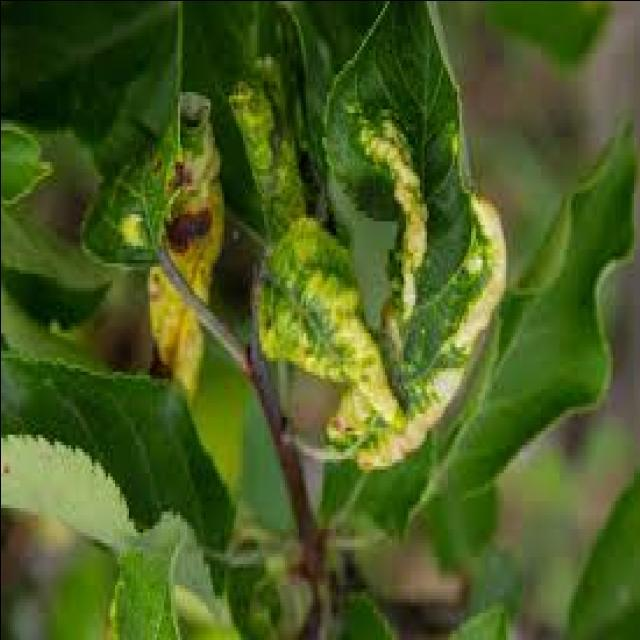aphid: (118, 207, 144, 230)
